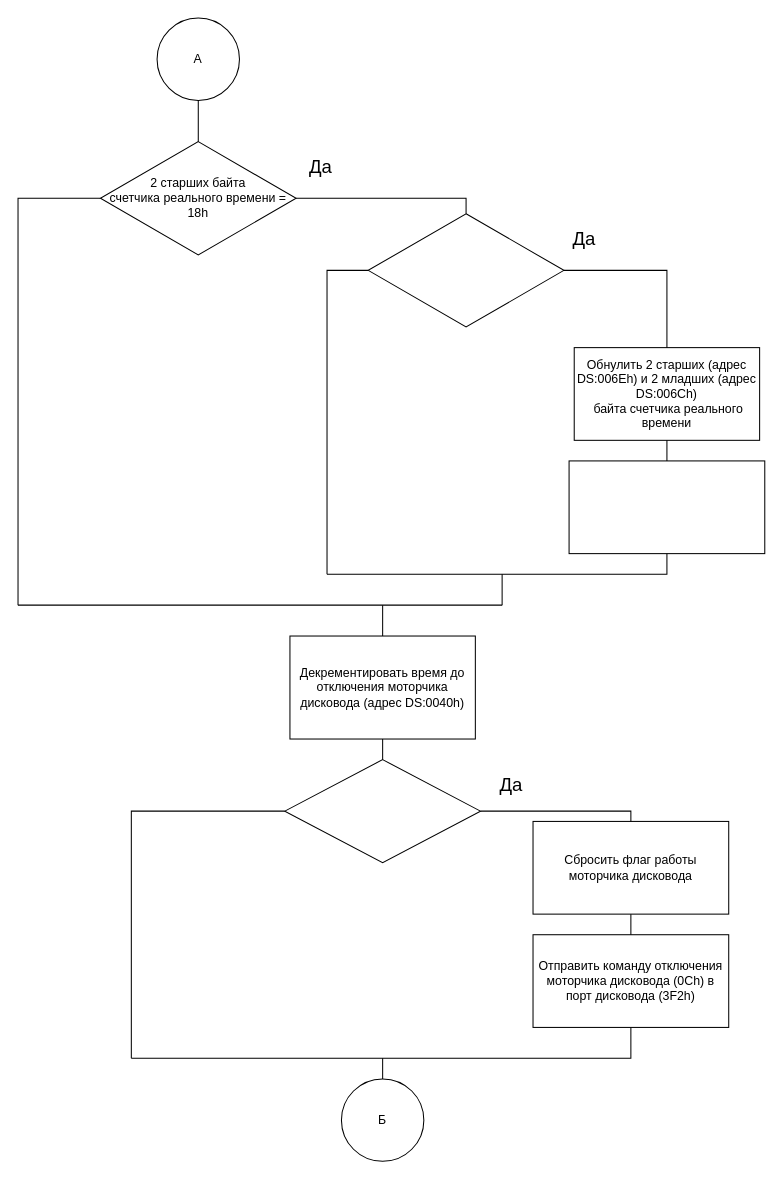
Some shapes in this 783 by 1179 pixel diagram are drawn without their labels. Here are the shapes that lost their labels. From the top down, the centre of each, then its label:
At pixel 465 270: "2 младших байта счетчика реального времени = B0h".
At pixel 666 507: "Установить по адресу DS:0070h флаг прохождения суток".
At pixel 382 811: "Значение по адресу DS:0040h = 0?".
